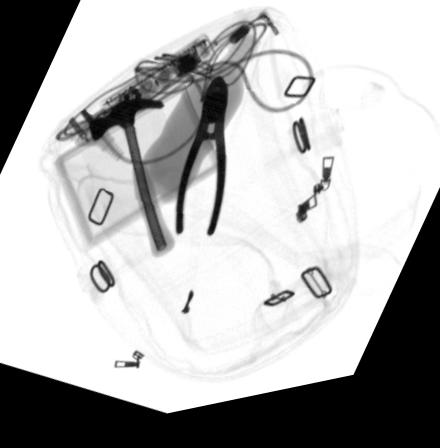Hammer: (86, 101, 175, 265)
Pliers: (175, 84, 227, 243)
